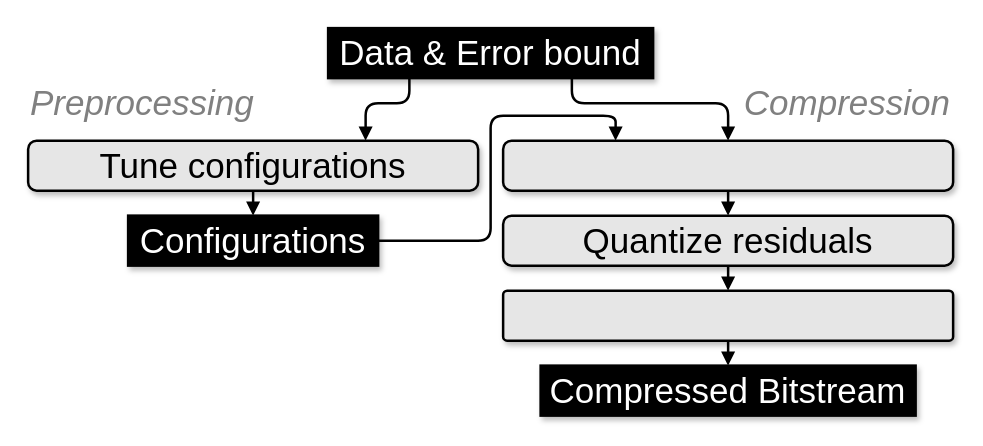
The diagram is 983 pixels wide and 446 high, and some of its shapes have lost their labels. The shapes that lost their labels are listed below. From the top down, each one's centre as x and y in pixels, then its label:
At (x=728, y=167): "Make predictions".
At (x=728, y=317): "Huffman encoding and Zstd".
